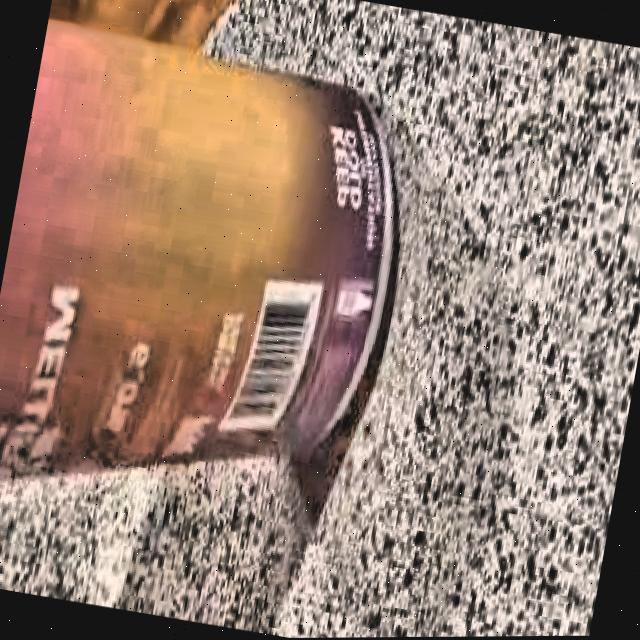metal: (0, 0, 441, 593)
